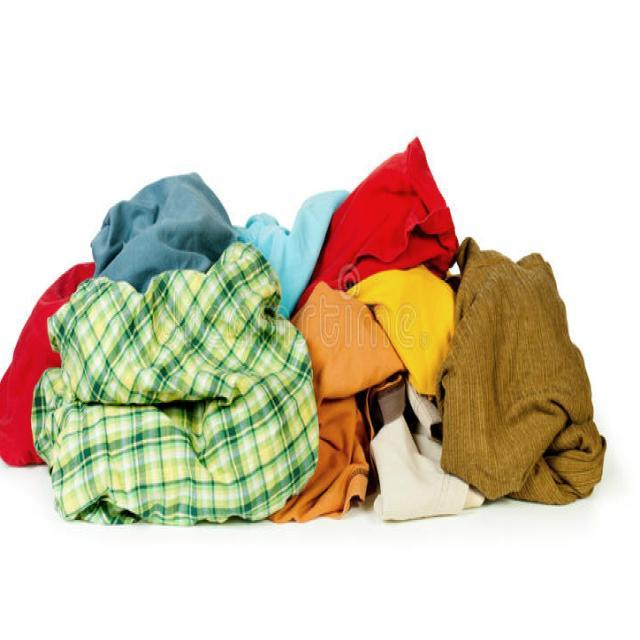clothes: (88, 256, 510, 488)
